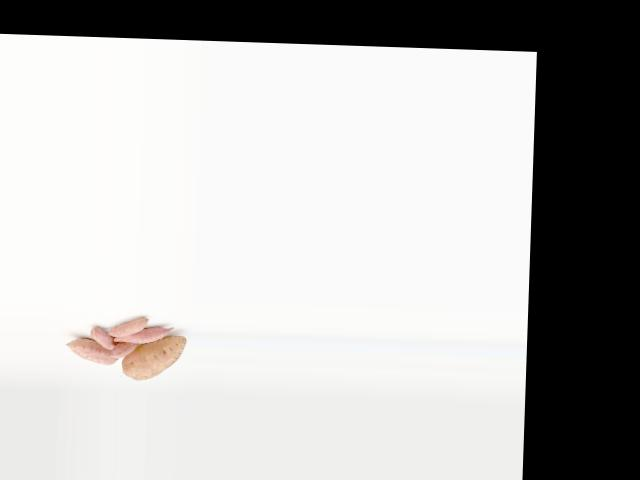sweet_potato: (63, 337, 117, 365)
